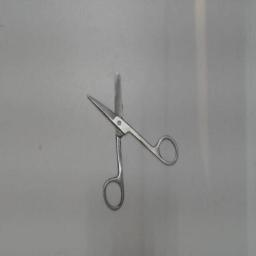Dressing Scissors: (80, 64, 182, 214)
